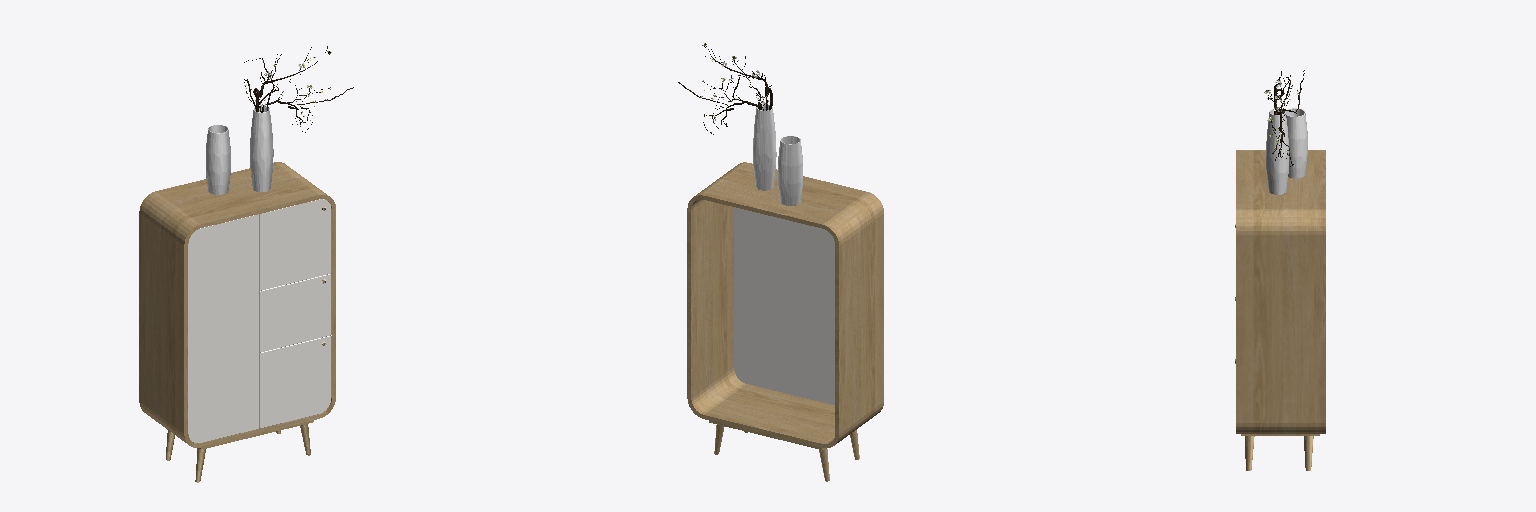
3 views of the same model, side by side, from view 1: azimuth 30°, elevation 25°; view 2: azimuth 150°, elevation 25°; view 3: azimuth 270°, elevation 25° (orthographic).
Visible parts, largest first — view 1: solid_005, solid_004, solid_001, solid_003; view 2: solid_004, solid_005, solid_001, solid_003; view 3: solid_004, solid_001.
Boxes of the visible parts, x1,y1,x2,y2 form: solid_005: [188, 199, 331, 443]; solid_004: [139, 162, 335, 482]; solid_001: [206, 107, 273, 194]; solid_003: [244, 46, 353, 132]; solid_004: [687, 162, 883, 481]; solid_005: [734, 207, 834, 404]; solid_001: [753, 104, 802, 205]; solid_003: [678, 43, 772, 134]; solid_004: [1236, 150, 1325, 470]; solid_001: [1266, 108, 1307, 194].
Size of the model in its own units: 0.7413 by 1.48 by 0.3111.
Materials: 1 (1 with a texture image).